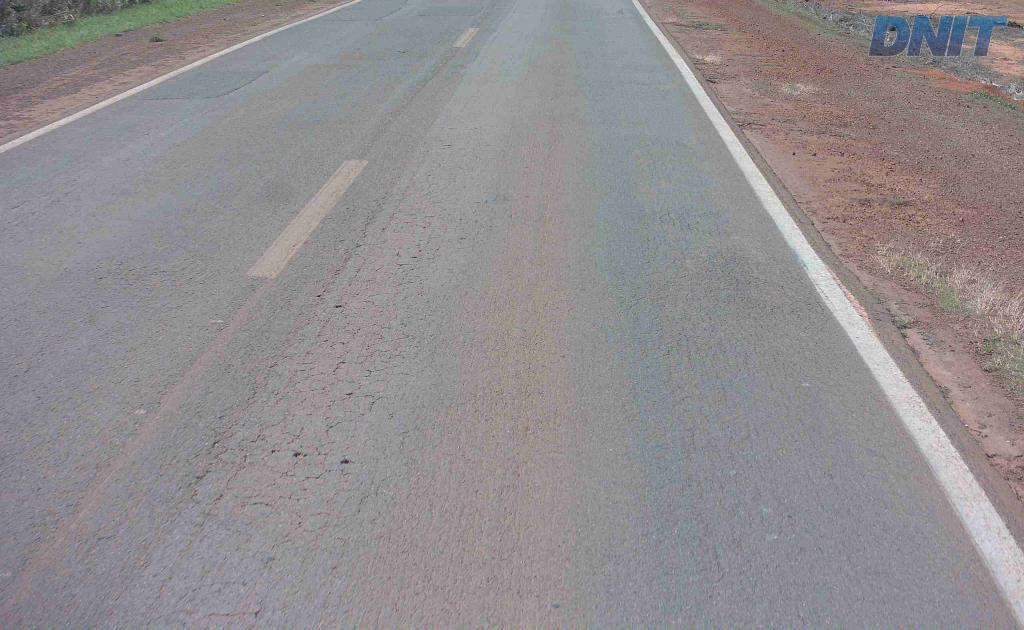crack: (196, 414, 242, 465)
